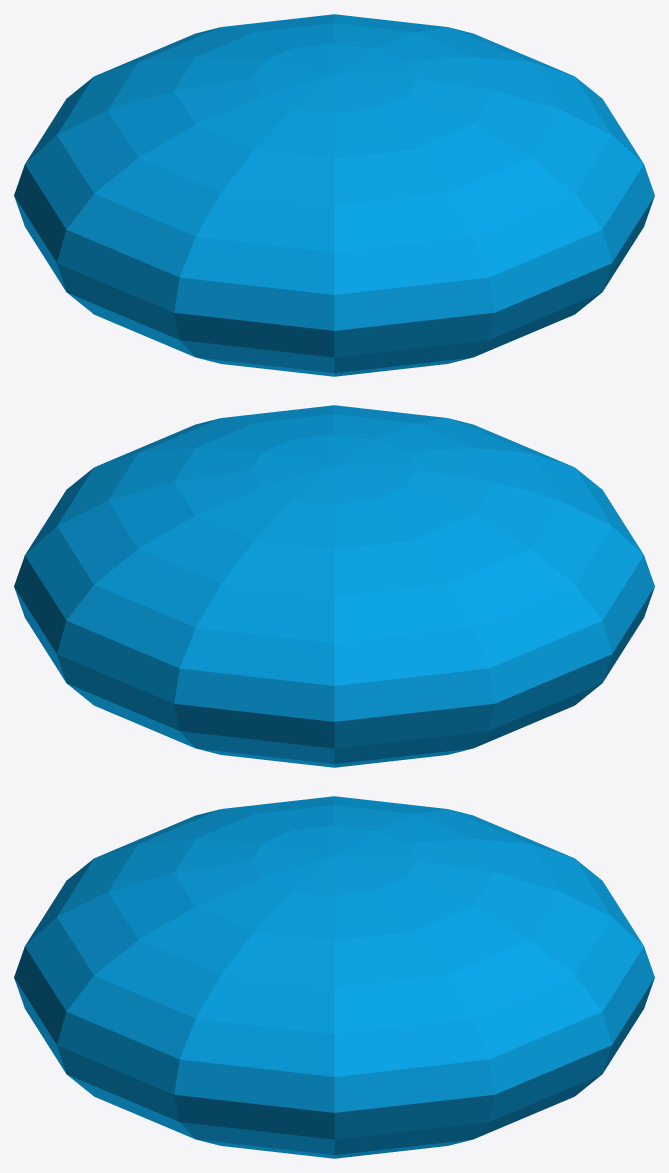
Rendered from Logic_D_Ball_02.fbx.
3 renders of one model, top to bottom at view 1: azimuth 30°, elevation 25°; view 2: azimuth 150°, elevation 25°; view 3: azimuth 270°, elevation 25°, orthographic.
Visible parts, largest first — view 1: Logic_D_Ball_02; view 2: Logic_D_Ball_02; view 3: Logic_D_Ball_02.
Part boxes in pixels (left/top/right/bottom): Logic_D_Ball_02: left=14, top=14, right=654, bottom=376; Logic_D_Ball_02: left=14, top=405, right=654, bottom=767; Logic_D_Ball_02: left=14, top=796, right=654, bottom=1158.
Size of the model in its own units: 7.93 by 3.3 by 7.93.
